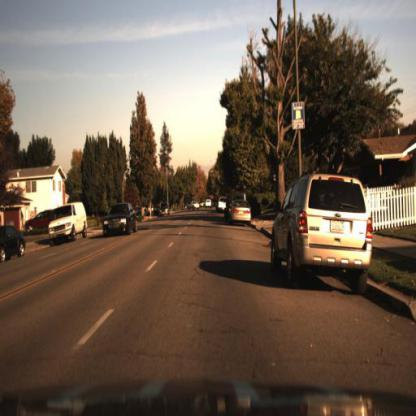car: (267, 162, 379, 307), (49, 202, 89, 247), (100, 198, 140, 243), (2, 225, 27, 267), (230, 195, 255, 227), (158, 204, 171, 225), (185, 198, 204, 212), (218, 197, 228, 215)
